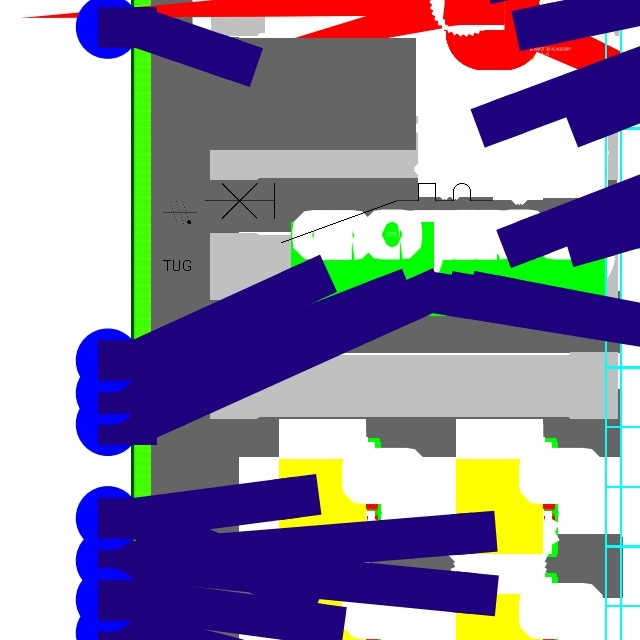interruptor_termomagnetico: (197, 176, 500, 250)
